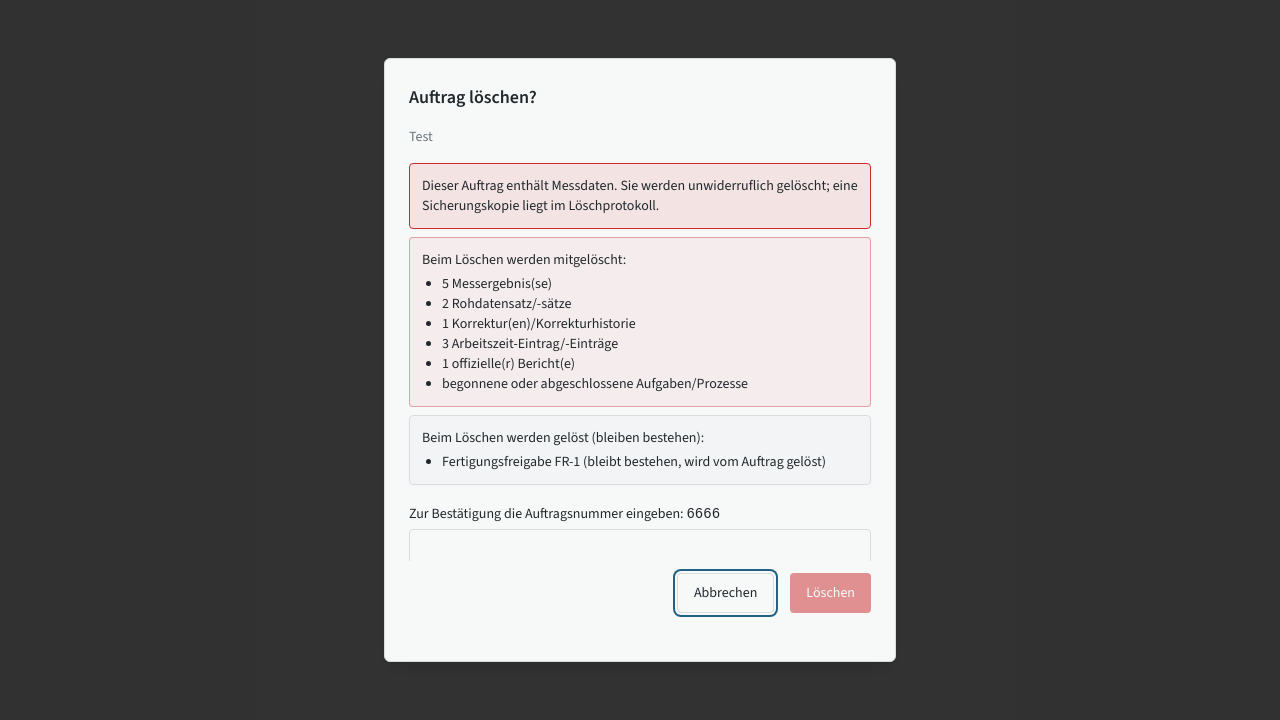
Test case: Löschdialog: Auftrag mit Messdaten (Master/Ersteller dürfen immer löschen) › listet die Messdaten auf; Löschen erst nach Eingabe der Auftragsnummer
Later steps or results of the test are not shown.
Expected: the text "enthält Messdaten" is shown, [422,176,858,215]
Expected: the list item "5 Messergebnis(se)" is shown, [442,274,552,293]
Type "falsch" into the field labelled "Zur Bestätigung die Auftragsnummer eingeben: 6666" at (640, 549), box [409,529,871,569]
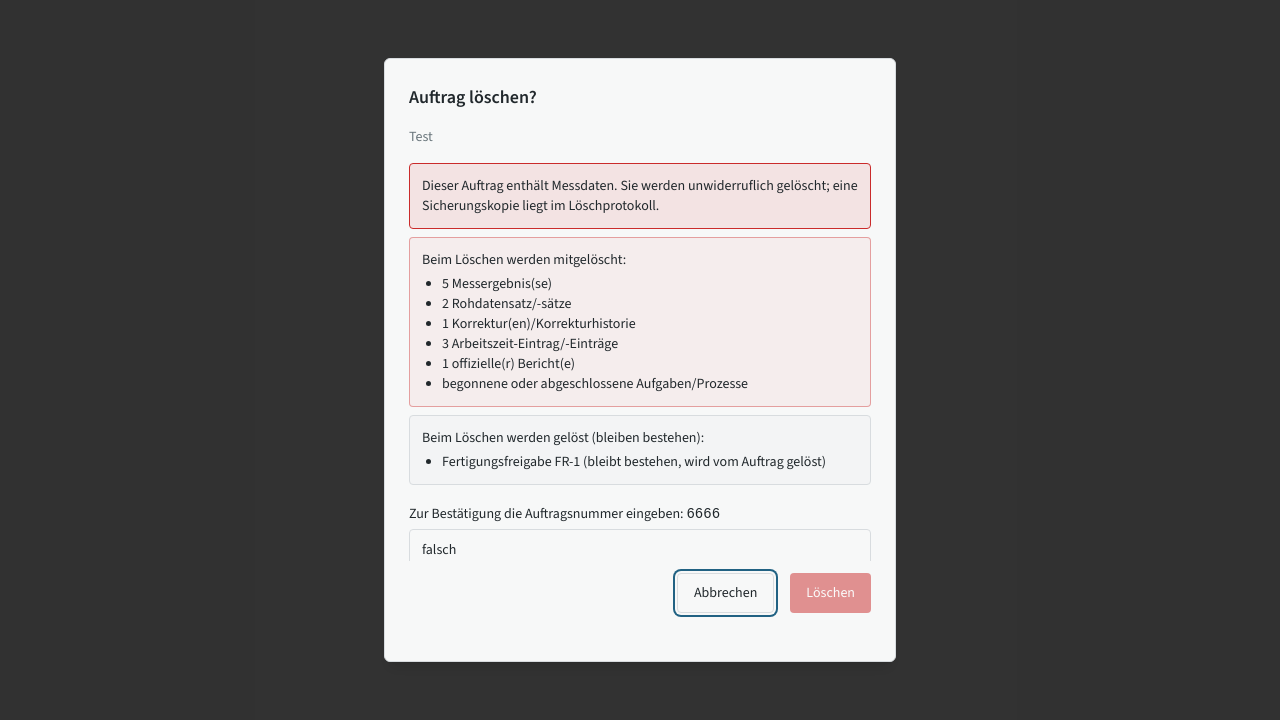
Expected: the button "Löschen" is disabled, [790,573,871,613]
Replace the text in the field labelled "Zur Bestätigung die Auftragsnummer eingeben: 6666" with "  dt0260001 " at (640, 549), box [409,529,871,569]
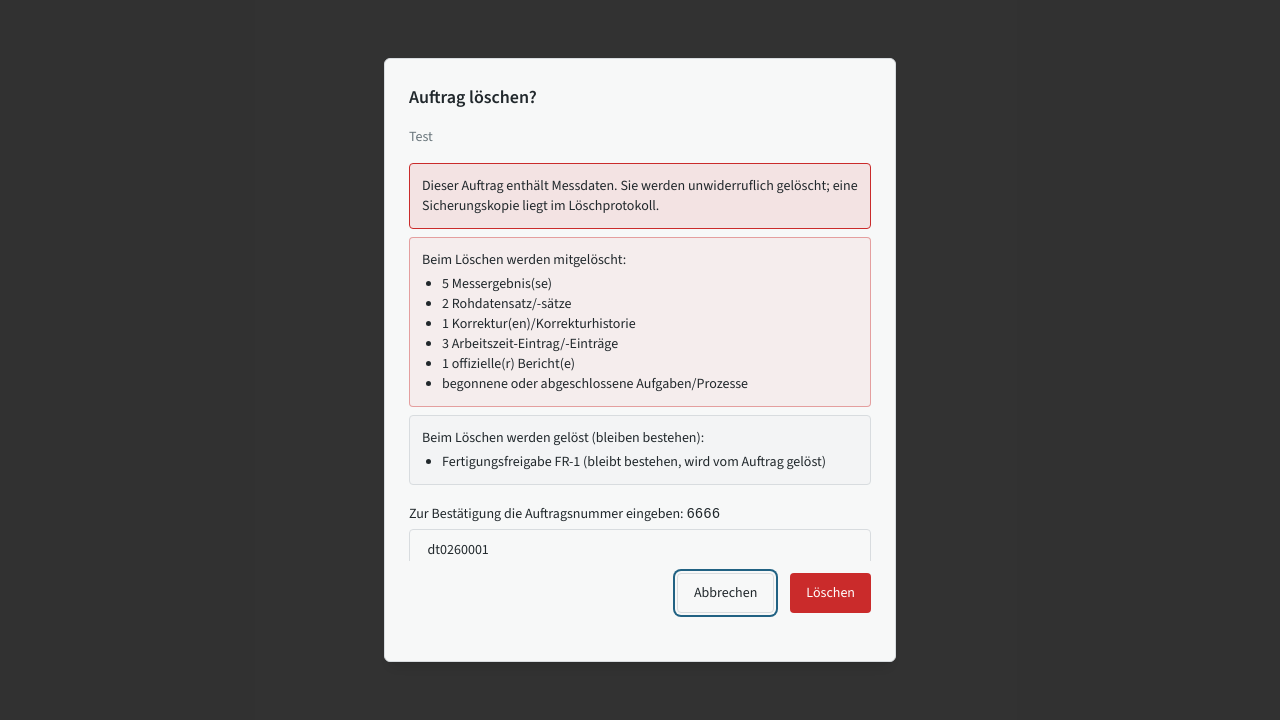
Expected: the button "Löschen" is enabled, [790,573,871,613]
